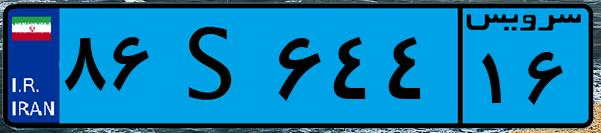1: (475, 38, 525, 113)
4: (385, 28, 445, 110), (330, 28, 385, 110)
6: (270, 28, 330, 110), (525, 38, 570, 115), (110, 28, 158, 98)
8: (57, 26, 110, 100)
S: (158, 12, 270, 120)
